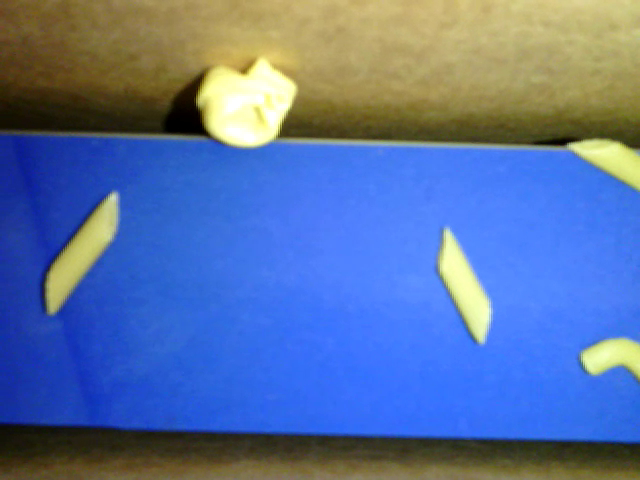elbow: (578, 337, 639, 378)
penne: (42, 190, 119, 316), (436, 226, 493, 346), (567, 138, 639, 189)
tortellini: (198, 54, 298, 148)
